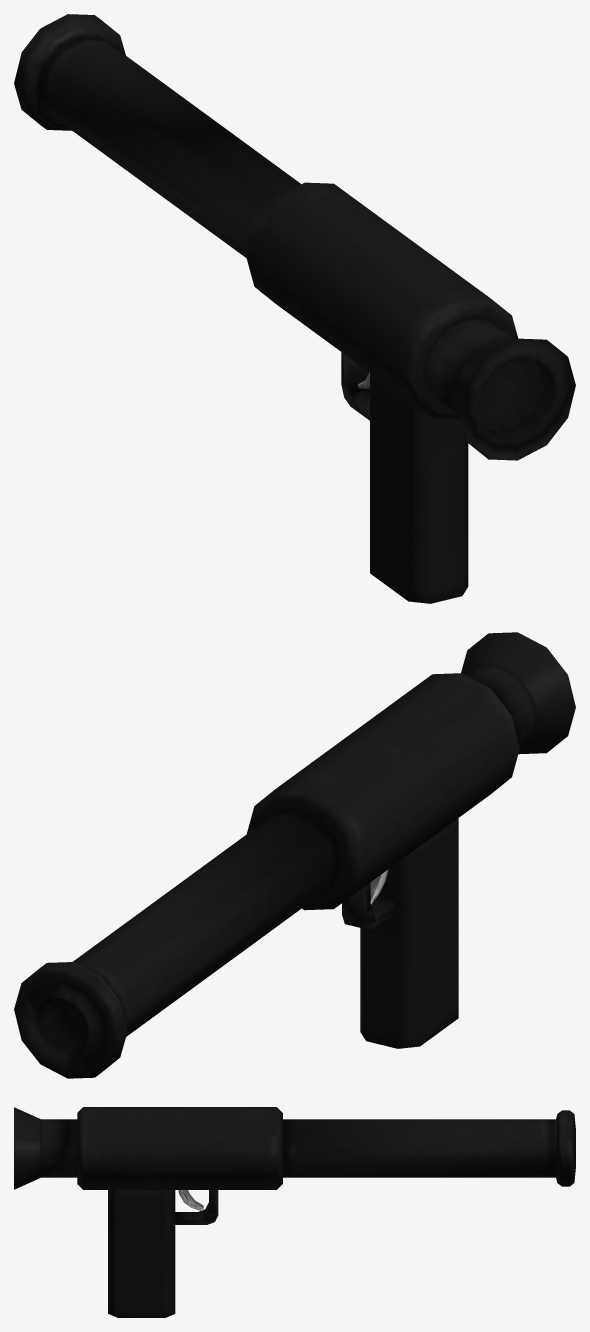
The model's file is Gun.obj.
3 renders of one model, top to bottom at view 1: azimuth 30°, elevation 25°; view 2: azimuth 150°, elevation 25°; view 3: azimuth 270°, elevation 25°, orthographic. The views are drawn at different scales.
Visible parts, largest first — view 1: Grapplegun1; view 2: Grapplegun1; view 3: Grapplegun1.
Boxes of the visible parts, x1=… form: Grapplegun1: x1=14, y1=14, x2=575, y2=603; Grapplegun1: x1=14, y1=632, x2=575, y2=1078; Grapplegun1: x1=14, y1=1107, x2=575, y2=1317.
Bounding box in the file's own units: 0.312 × 0.8143 × 2.11.
1 material, 1 textured.
